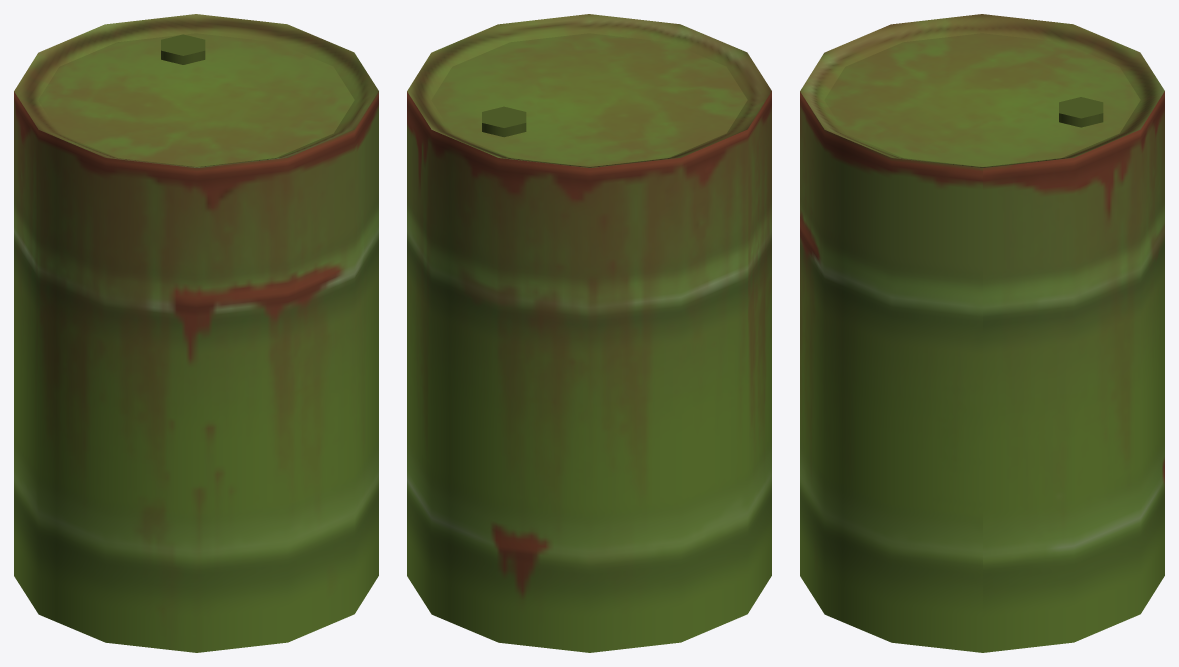
File: TRF0210023.fbx
3 renders of one model, left to right at view 1: azimuth 30°, elevation 25°; view 2: azimuth 150°, elevation 25°; view 3: azimuth 270°, elevation 25°, orthographic.
Parts seen in each view (by area): view 1: smTRF0210023; view 2: smTRF0210023; view 3: smTRF0210023.
Boxes of the visible parts, x1,y1,x2,y2 form: smTRF0210023: [14, 14, 378, 652]; smTRF0210023: [407, 14, 771, 652]; smTRF0210023: [800, 14, 1164, 652].
Size of the model in its own units: 81.95 by 120 by 81.95.
Materials: 1 (1 with a texture image).
